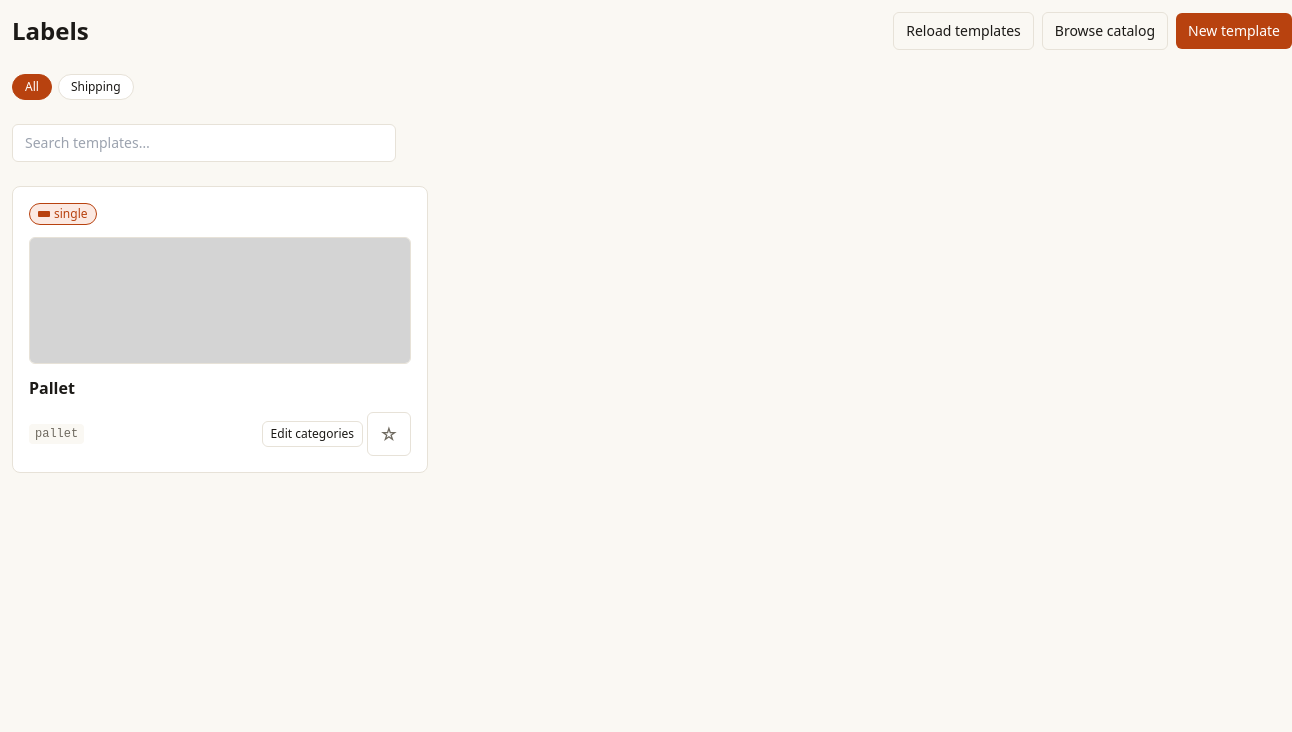
Templates list › does not write or report success on Cancel
This screenshot has width=1292, height=732.
Expected: the heading "Pallet" is shown, [29, 377, 75, 399]
Click the button "Edit categories": (312, 434) [262, 421, 363, 447]
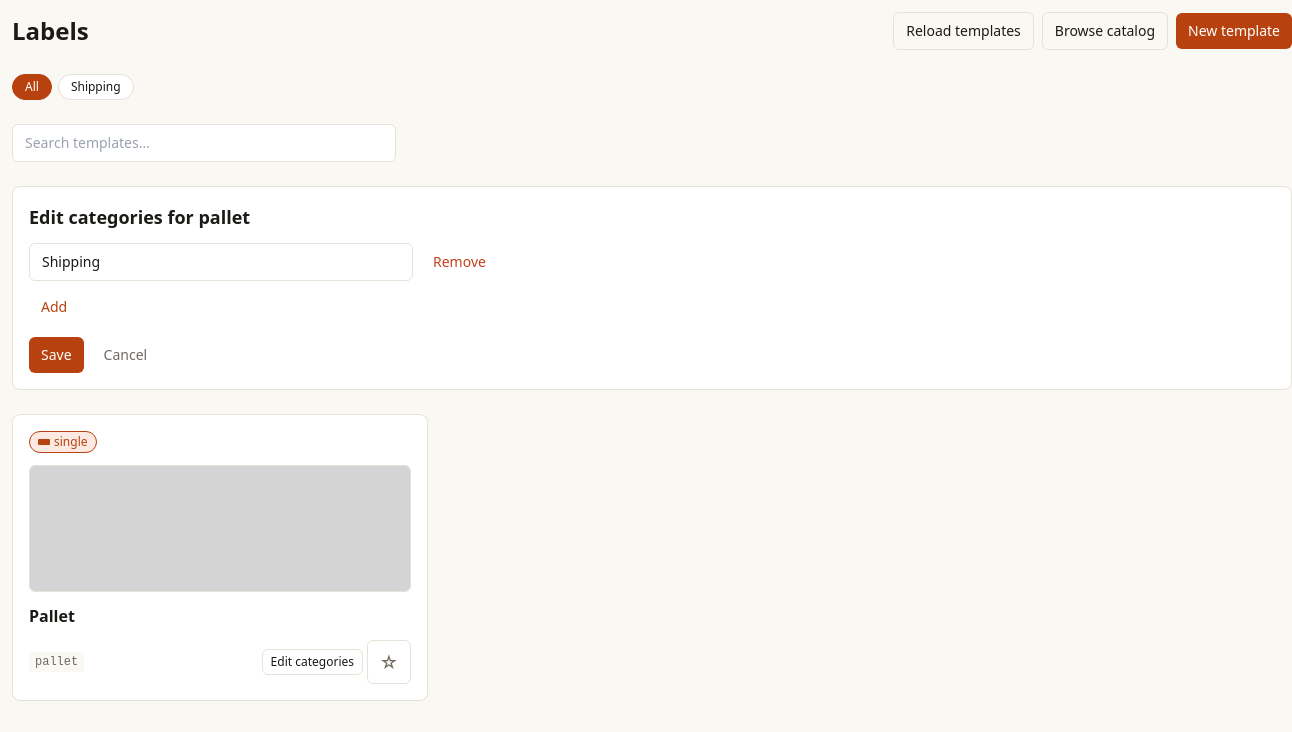
Replace the text in the field named "Category 1" with "Warehouse": (221, 262) [29, 243, 413, 281]
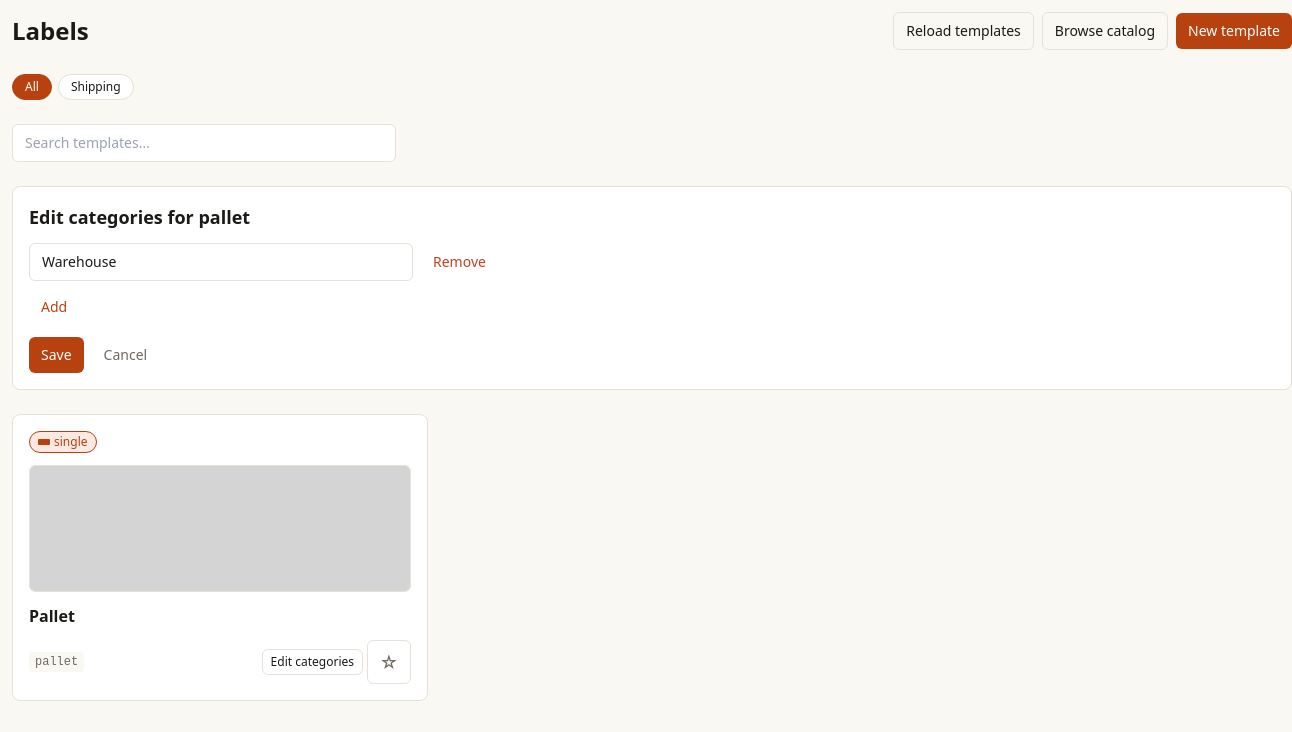
Click the button "Cancel": (125, 355) [92, 337, 159, 373]
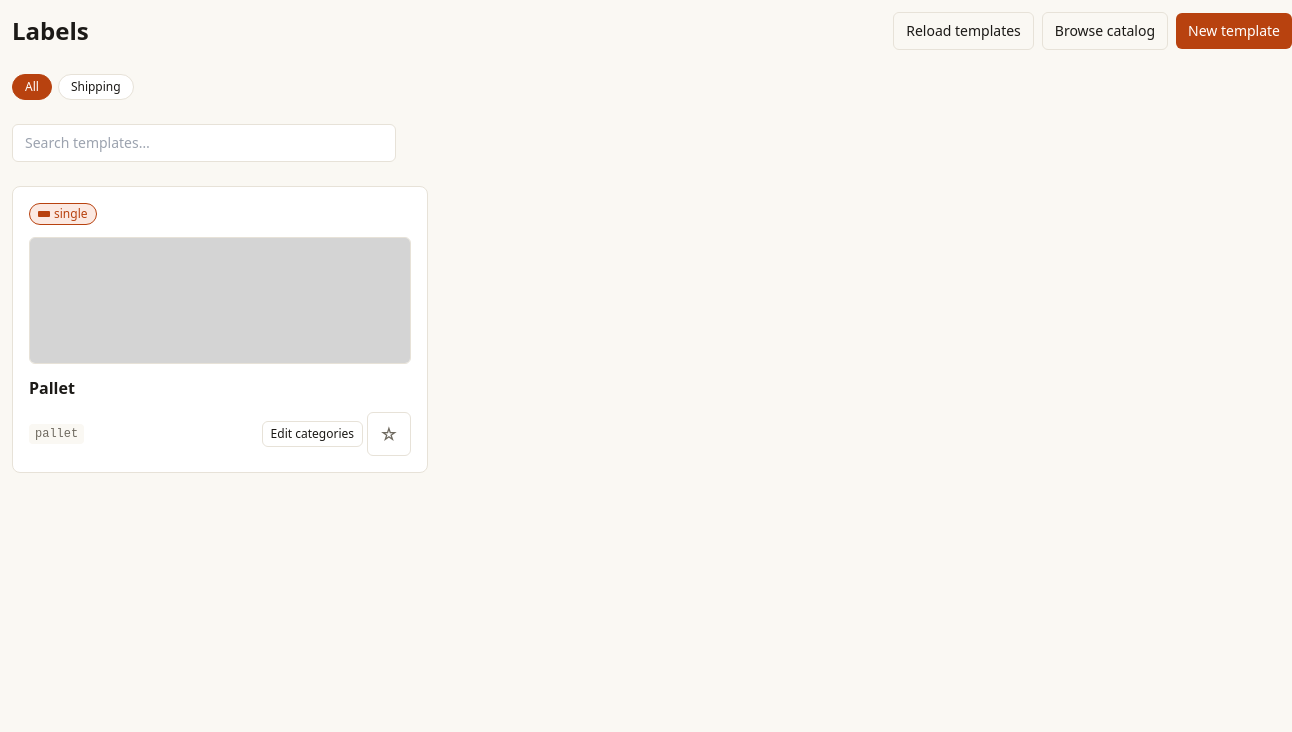
Expected: the heading "Edit categories for pallet" is gone
